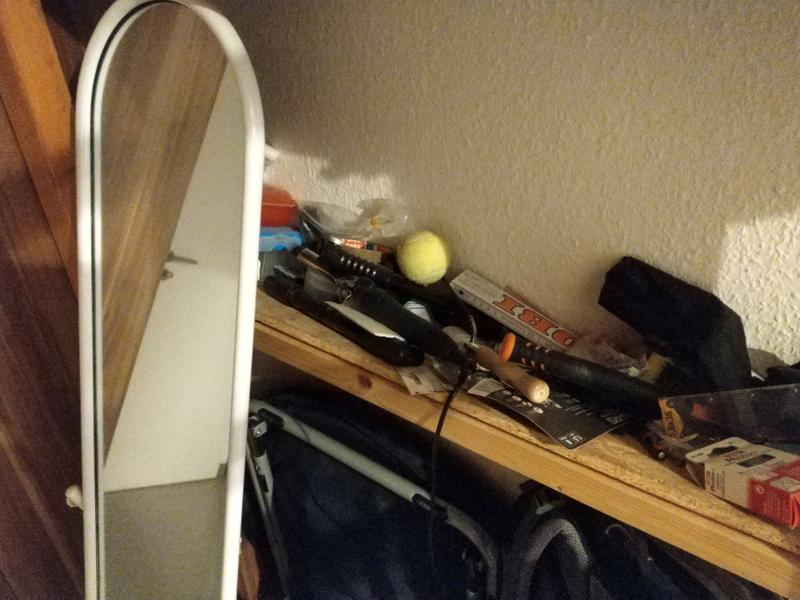Tennisball: (393, 227, 451, 288)
